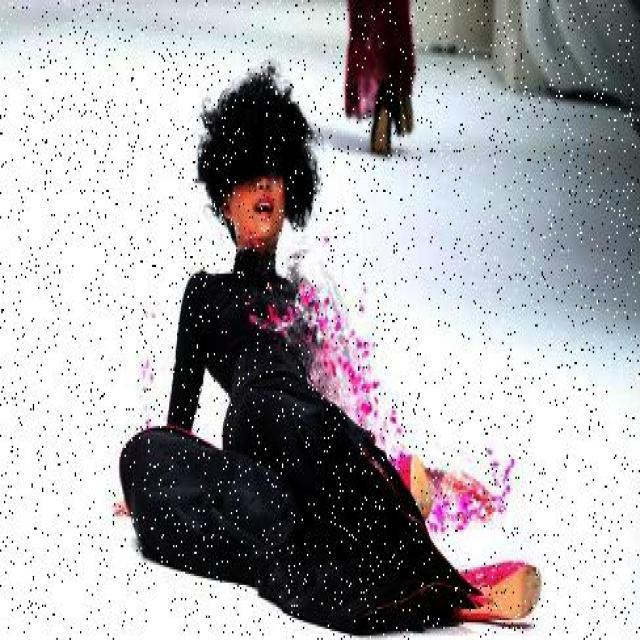fall: (142, 81, 526, 614)
